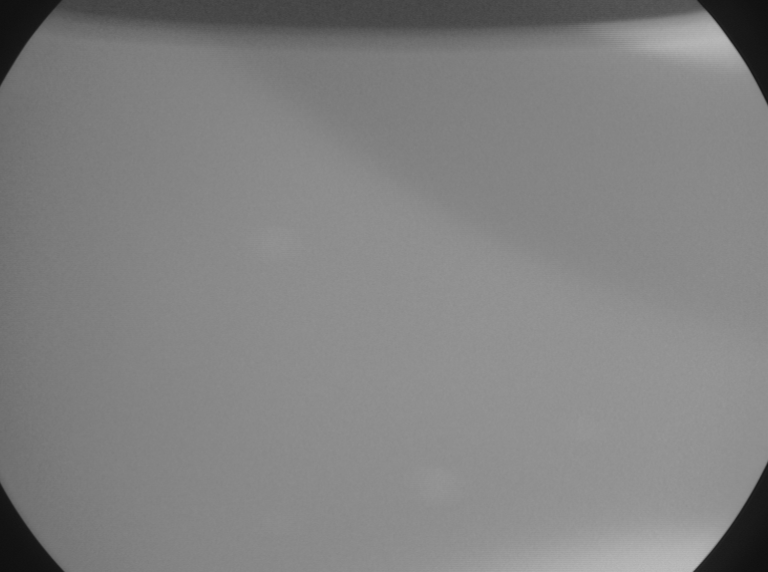defect: (413, 463, 468, 509)
